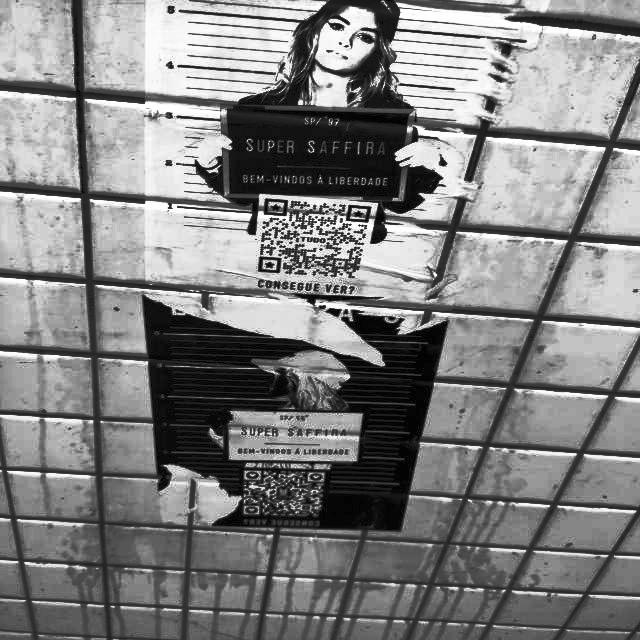qr_code: (258, 199, 371, 278), (243, 470, 325, 518)
